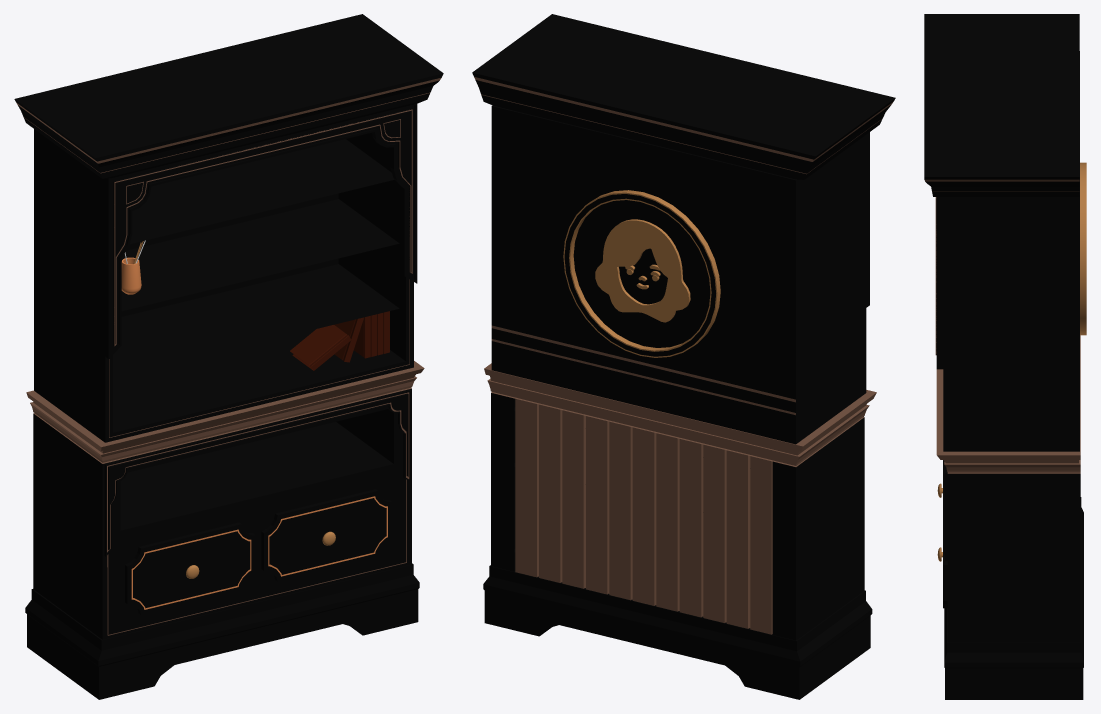
File: shelf.glb
3 renders of one model, left to right at view 1: azimuth 30°, elevation 25°; view 2: azimuth 150°, elevation 25°; view 3: azimuth 270°, elevation 25°, orthographic. The views are drawn at different scales.
Visible parts, largest first — view 1: Cube.048; view 2: Cube.048; view 3: Cube.048.
Part boxes in pixels (left/top/right/bottom): Cube.048: left=14, top=14, right=443, bottom=699; Cube.048: left=472, top=14, right=895, bottom=699; Cube.048: left=924, top=14, right=1086, bottom=699.
Bounding box in the file's own units: 2.72 × 4.13 × 1.15.
